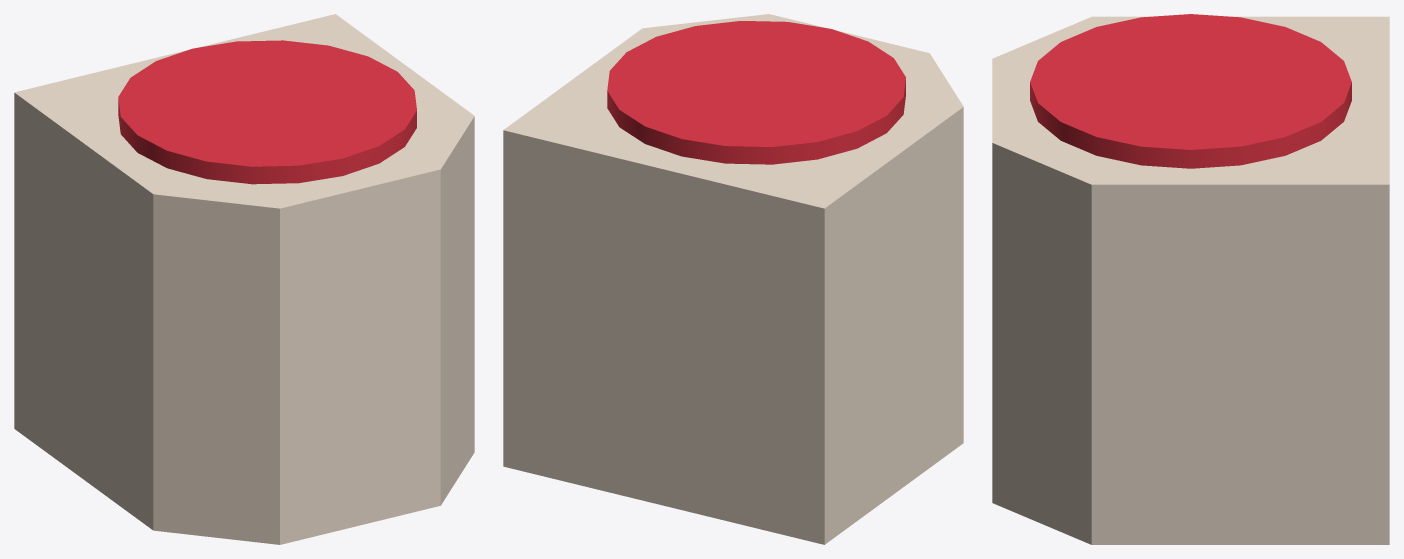
Rendered from dispenser01.fbx.
3 renders of one model, left to right at view 1: azimuth 30°, elevation 25°; view 2: azimuth 150°, elevation 25°; view 3: azimuth 270°, elevation 25°, orthographic. The views are drawn at different scales.
Parts seen in each view (by area): view 1: polySurface4; view 2: polySurface4; view 3: polySurface4.
Boxes of the visible parts, x1,y1,x2,y2 form: polySurface4: (14,14,474,544); polySurface4: (503,14,963,544); polySurface4: (992,14,1389,544).
Size of the model in its own units: 1 by 1.05 by 1.
1 material, 1 textured.
